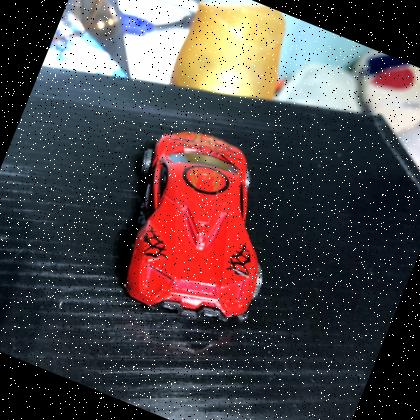Car: (80, 106, 316, 354)
